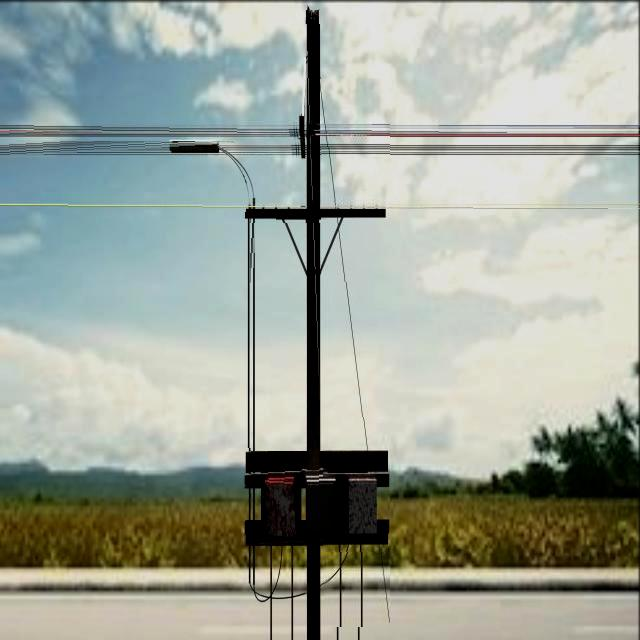crossarm: (320, 80, 390, 627), (243, 451, 389, 486), (246, 520, 390, 545), (243, 204, 388, 223)
pole: (307, 11, 320, 430)
transformer: (262, 479, 297, 537), (345, 477, 374, 537), (307, 478, 337, 530)
wire: (0, 123, 640, 133), (0, 199, 640, 209), (0, 141, 325, 157), (246, 220, 251, 448), (0, 130, 161, 137), (250, 216, 257, 331)
